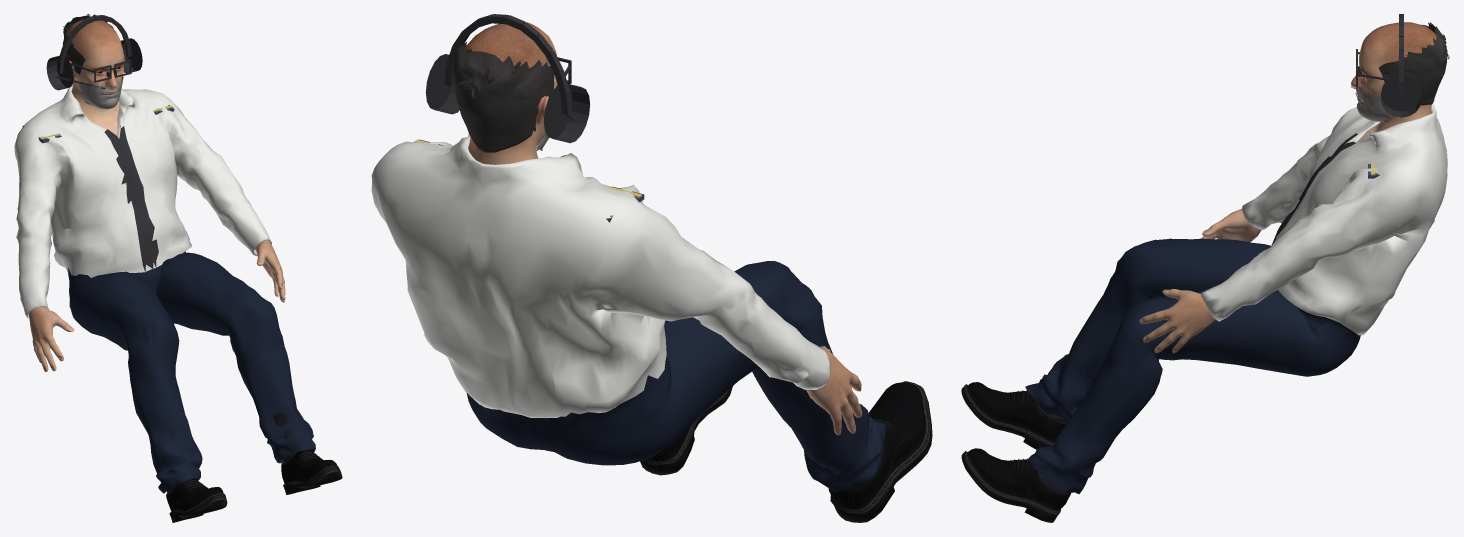
File: duboc-seated.glb
3 renders of one model, left to right at view 1: azimuth 30°, elevation 25°; view 2: azimuth 150°, elevation 25°; view 3: azimuth 270°, elevation 25°, orthographic. The views are drawn at different scales.
Parts seen in each view (by area): view 1: Human.male_pilotshirt01.001, Human.001, Human.shoes03.001, tie, headset, beard, Human.short01.001, glasses; view 2: Human.male_pilotshirt01.001, Human.shoes03.001, Human.short01.001, Human.001, headset; view 3: Human.male_pilotshirt01.001, Human.shoes03.001, Human.001, Human.short01.001, headset, beard, tie.
Boxes of the visible parts, x1,y1,x2,y2 form: Human.male_pilotshirt01.001: [14, 85, 315, 493]; Human.001: [28, 19, 285, 371]; Human.shoes03.001: [166, 412, 342, 522]; tie: [104, 125, 158, 271]; headset: [46, 15, 142, 90]; beard: [77, 76, 123, 109]; Human.short01.001: [62, 14, 123, 79]; glasses: [70, 53, 131, 82]; Human.male_pilotshirt01.001: [371, 134, 885, 491]; Human.shoes03.001: [640, 381, 932, 522]; Human.short01.001: [452, 42, 554, 152]; Human.001: [464, 22, 862, 435]; headset: [425, 14, 590, 143]; Human.male_pilotshirt01.001: [1025, 104, 1447, 494]; Human.shoes03.001: [961, 382, 1070, 522]; Human.001: [1139, 22, 1436, 353]; Human.short01.001: [1379, 22, 1449, 105]; headset: [1381, 14, 1421, 117]; beard: [1350, 85, 1390, 122]; tie: [1271, 133, 1357, 245].
Size of the model in its own units: 0.8094 by 1.31 by 1.24.
12 materials, 6 textured.
